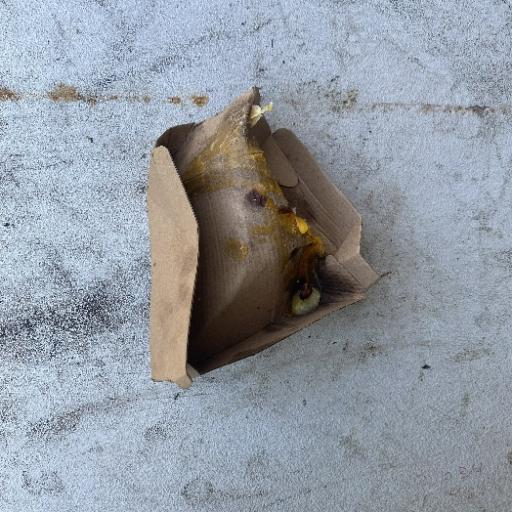Cardboard: (144, 86, 386, 389)
